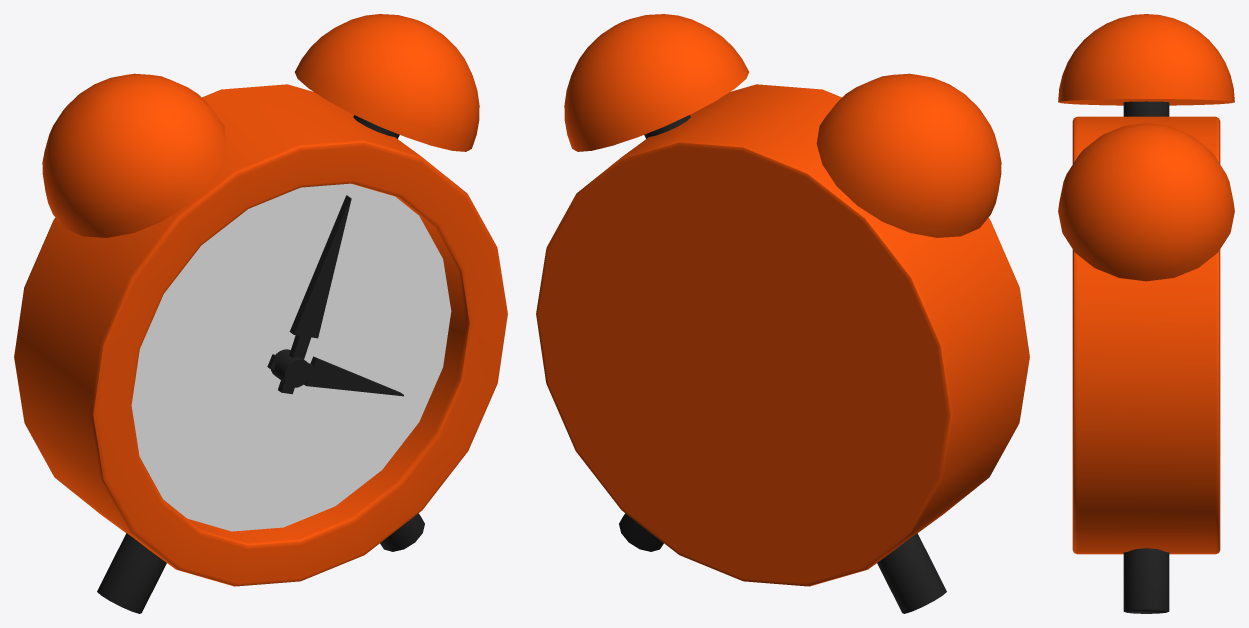
File: clock.obj
3 renders of one model, left to right at view 1: azimuth 30°, elevation 25°; view 2: azimuth 150°, elevation 25°; view 3: azimuth 270°, elevation 25°, orthographic. The views are drawn at different scales.
Parts seen in each view (by area): view 1: pCube3; view 2: pCube3; view 3: pCube3.
Part boxes in pixels (box(x1,y1,x2,y2)): pCube3: box(14, 14, 507, 613); pCube3: box(536, 14, 1029, 613); pCube3: box(1058, 14, 1234, 613).
Size of the model in its own units: 3.71 by 4.47 by 1.49.
